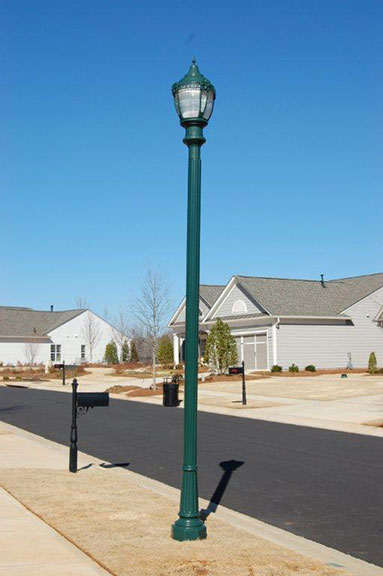pole: (157, 49, 225, 550), (58, 375, 111, 472)
